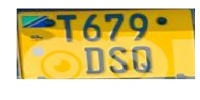T: (56, 14, 80, 44)
